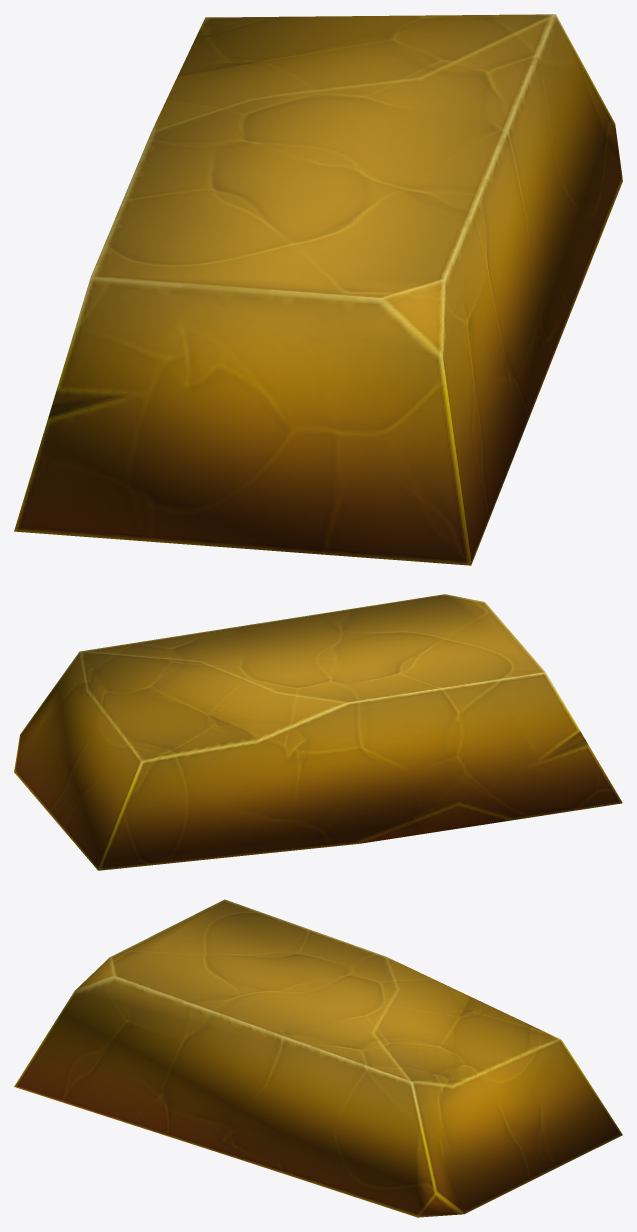
Rendered from Gold-02.fbx.
3 views of the same model, one above another, from view 1: azimuth 30°, elevation 25°; view 2: azimuth 150°, elevation 25°; view 3: azimuth 270°, elevation 25° (orthographic). The views are drawn at different scales.
Visible parts, largest first — view 1: Gold-02; view 2: Gold-02; view 3: Gold-02.
Part boxes in pixels (x1,y1,x2,y2): Gold-02: (14, 14, 622, 565); Gold-02: (14, 594, 622, 870); Gold-02: (14, 899, 622, 1217).
Size of the model in its own units: 0.1496 by 0.0375 by 0.1631.
1 material, 1 textured.
